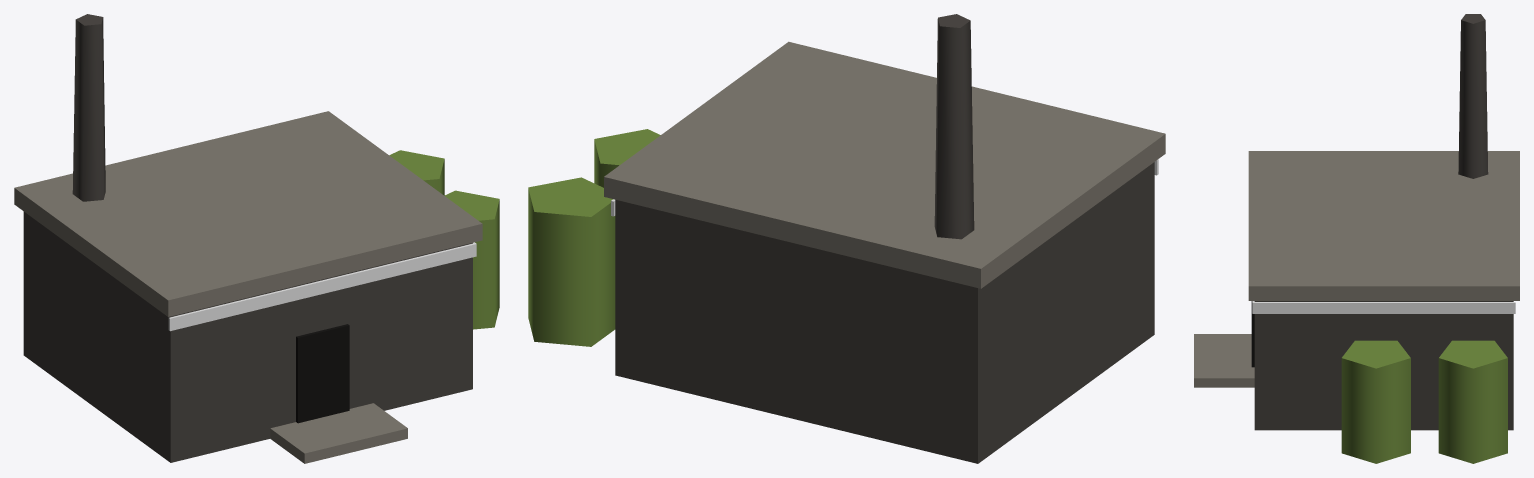
3 renders of one model, left to right at view 1: azimuth 30°, elevation 25°; view 2: azimuth 150°, elevation 25°; view 3: azimuth 270°, elevation 25°, orthographic. The views are drawn at different scales.
Parts seen in each view (by area): view 1: raider_building_chemlab; view 2: raider_building_chemlab; view 3: raider_building_chemlab.
Boxes of the visible parts, <box> form: raider_building_chemlab: <box>14,14,499,463</box>; raider_building_chemlab: <box>528,14,1165,463</box>; raider_building_chemlab: <box>1194,14,1519,463</box>.
Bounding box in the file's own units: 10.15 × 8.2 × 8.05.
